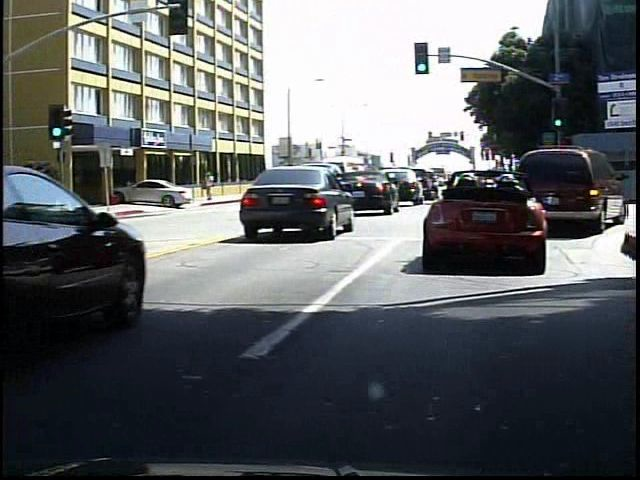person: (197, 168, 212, 201)
